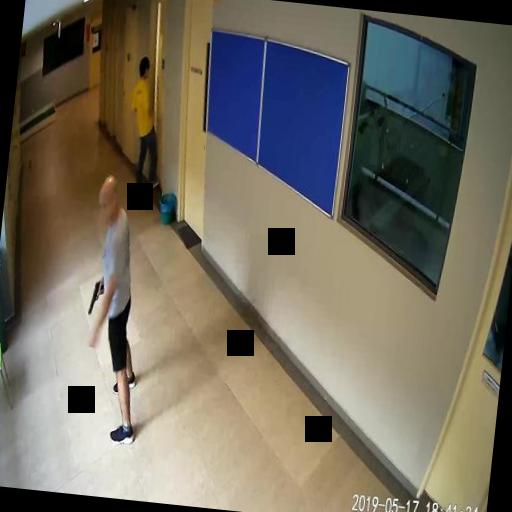Handgun: (86, 280, 102, 314)
